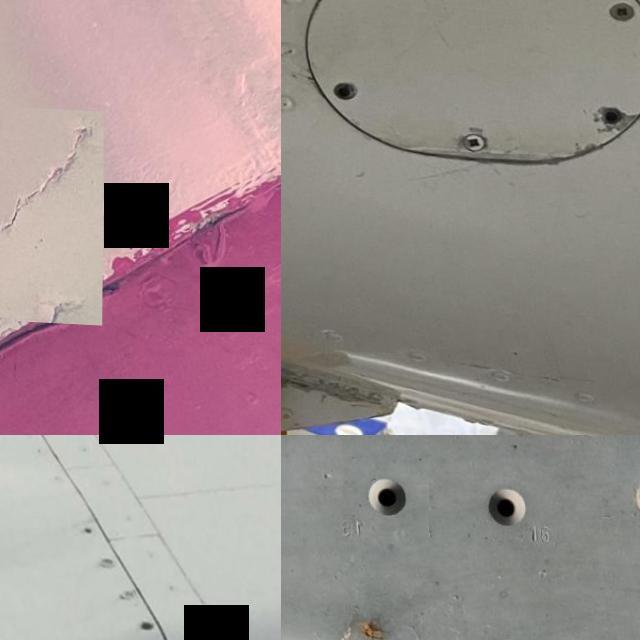Crack: (0, 98, 103, 320), (138, 618, 163, 634)
Missing_Fastener: (466, 457, 552, 556), (344, 454, 431, 542), (597, 100, 627, 123), (332, 80, 359, 100)
